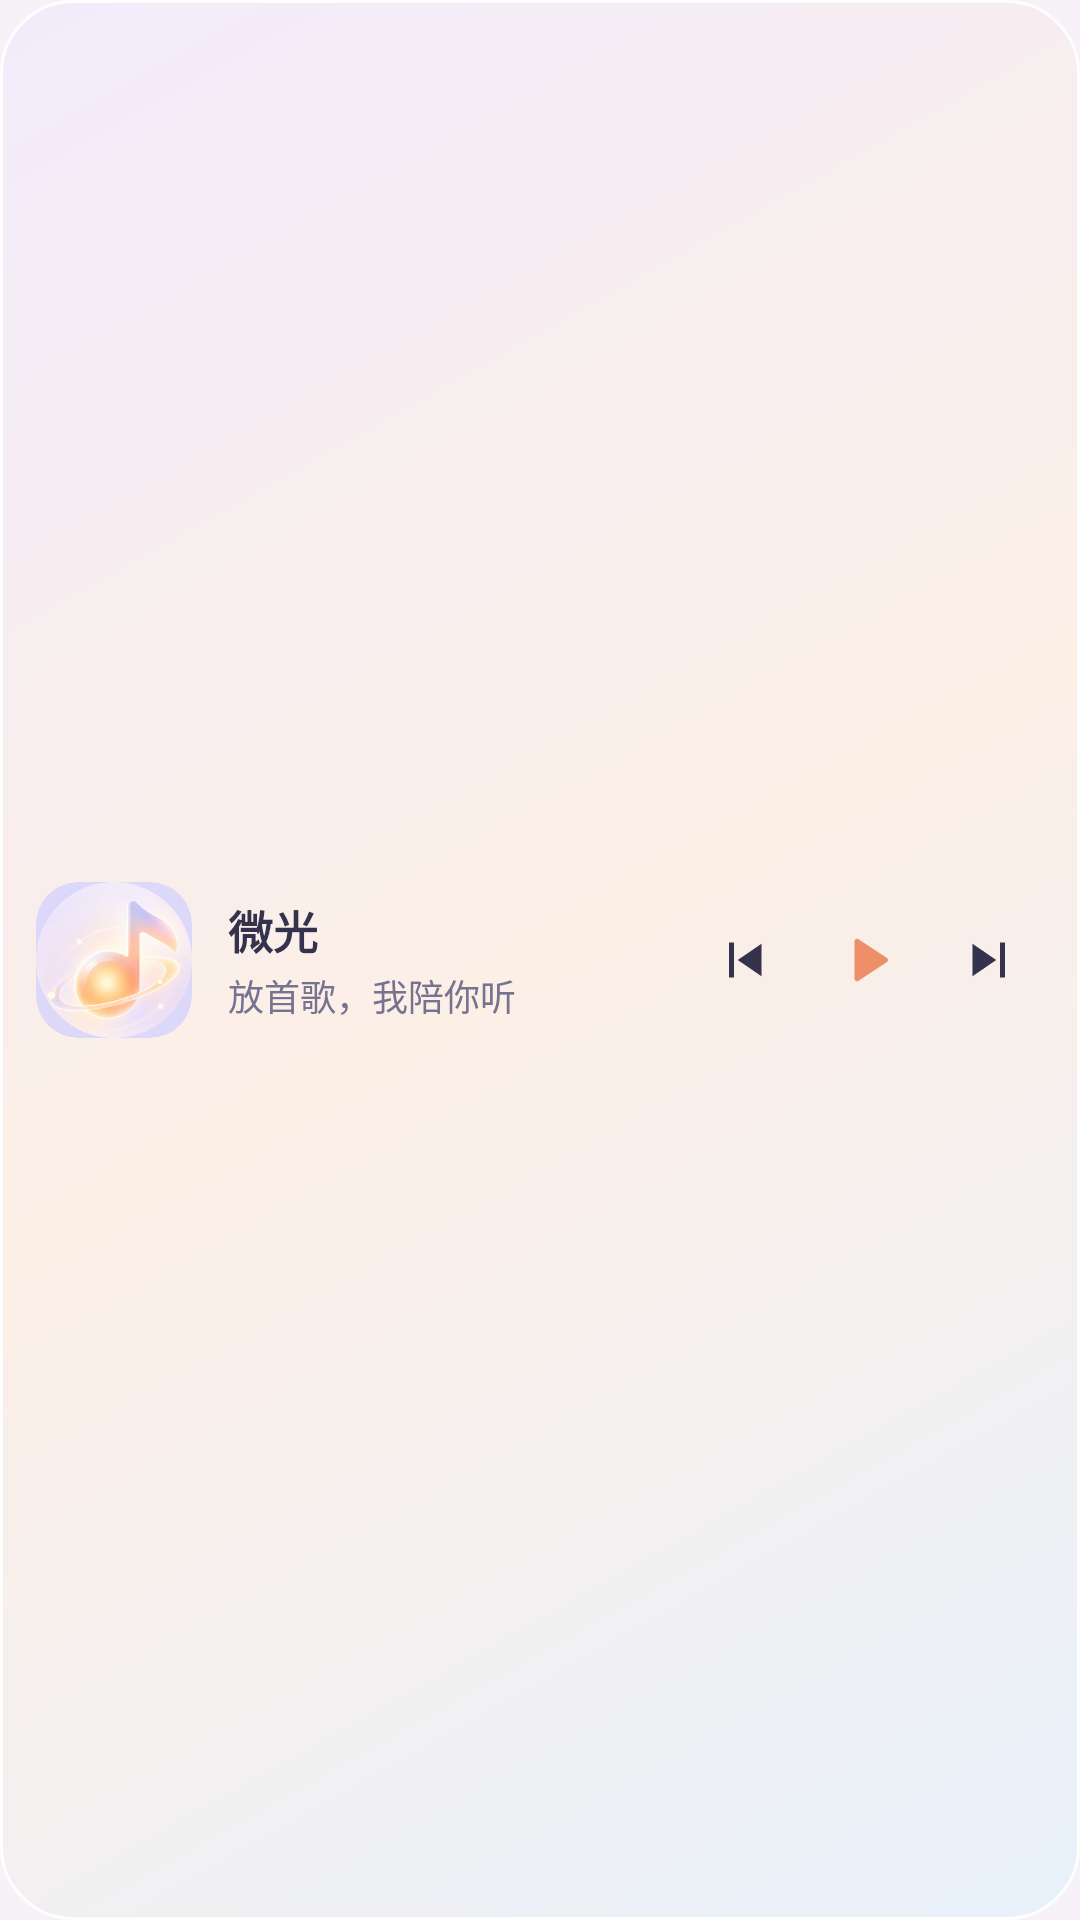

Where icons sit on this 1080×1920 app screen, as box=[x1, y1, x2, y2]:
上一首: box=[729, 942, 762, 978]
下一首: box=[972, 942, 1005, 978]
播放或暂停: box=[854, 938, 888, 982]
